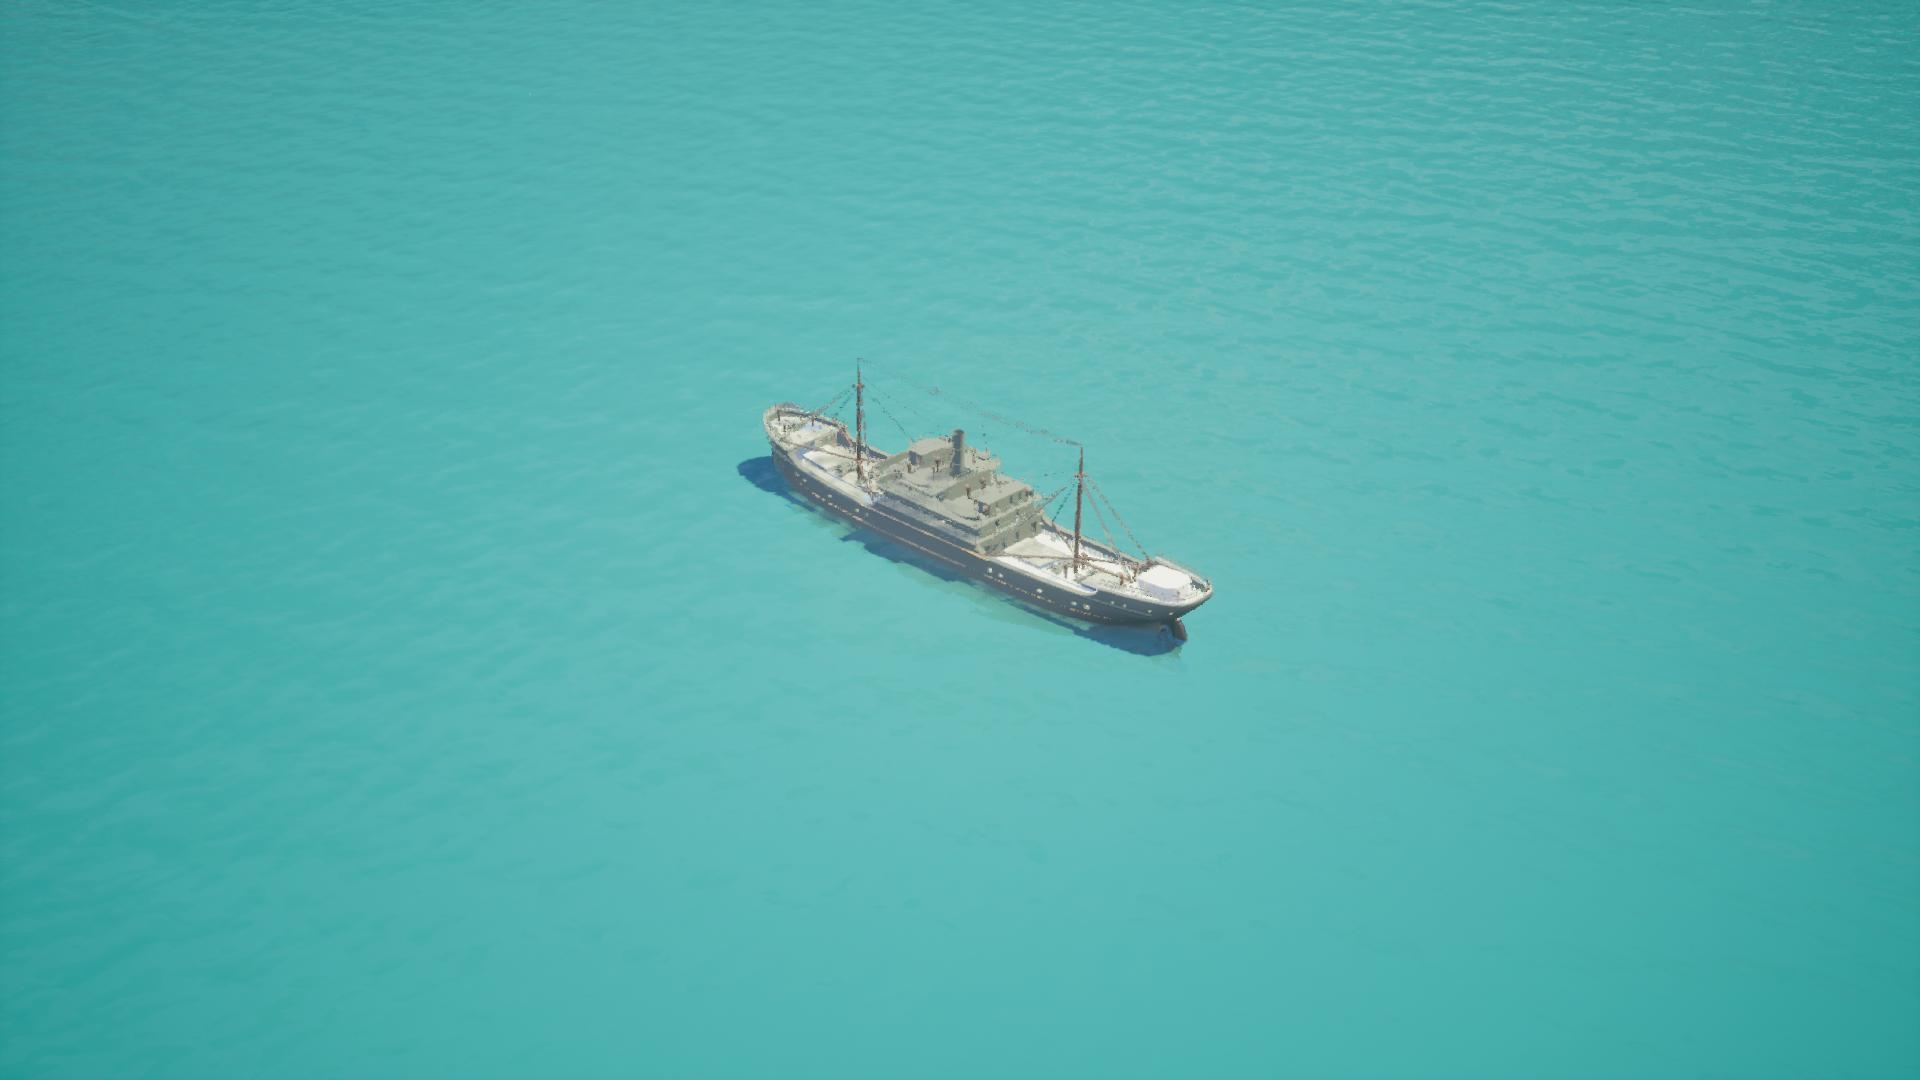Fishing Boat: (744, 368, 1213, 654)
